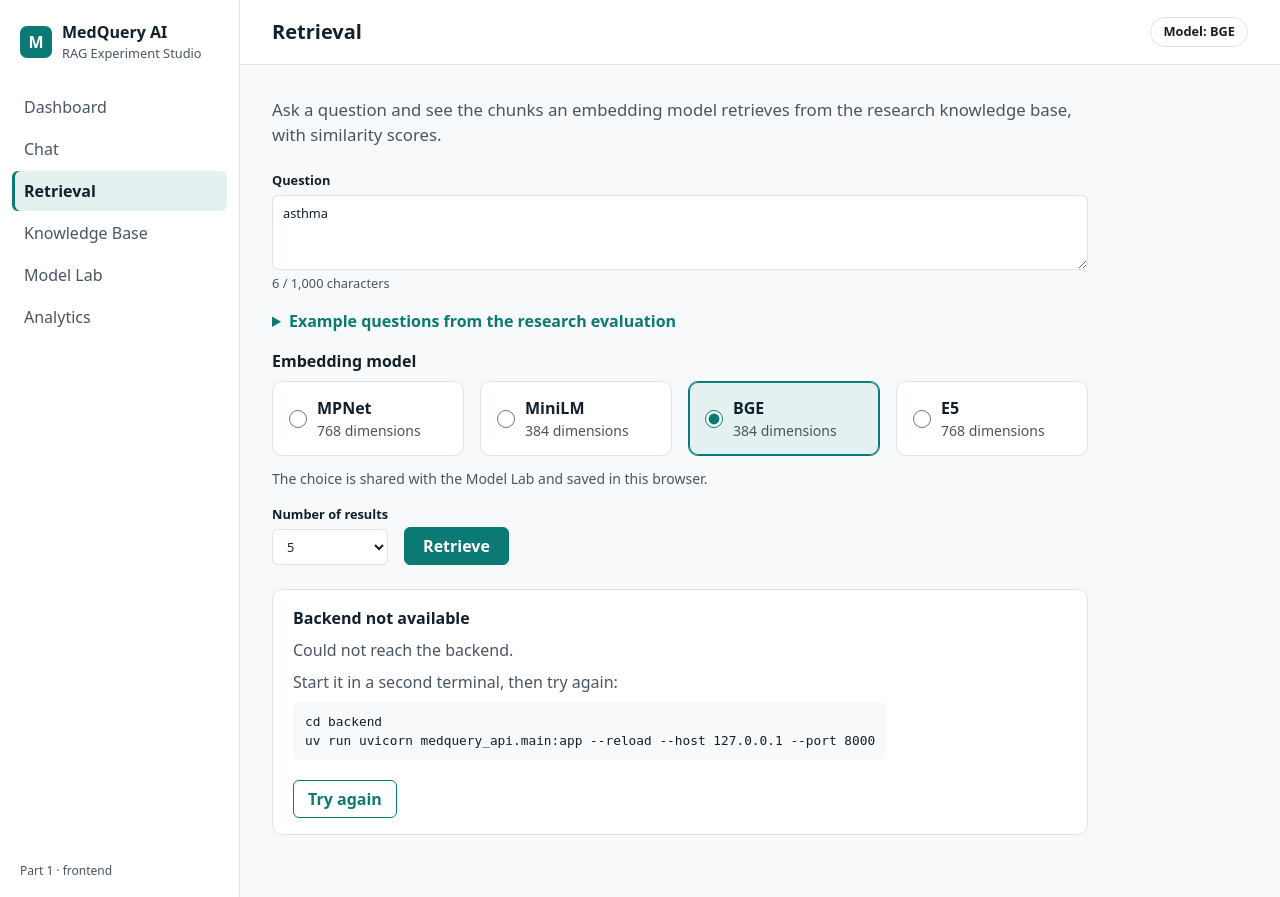
Test case: Retrieval errors › explains how to start the backend when it cannot be reached, and can try again
Expected: the message shows "Backend not available", [293,606,470,628]
Expected: the message shows "Could not reach the backend.", [293,638,513,660]
Click the button "Try again".
click(345, 799)  # box [293,780,397,818]
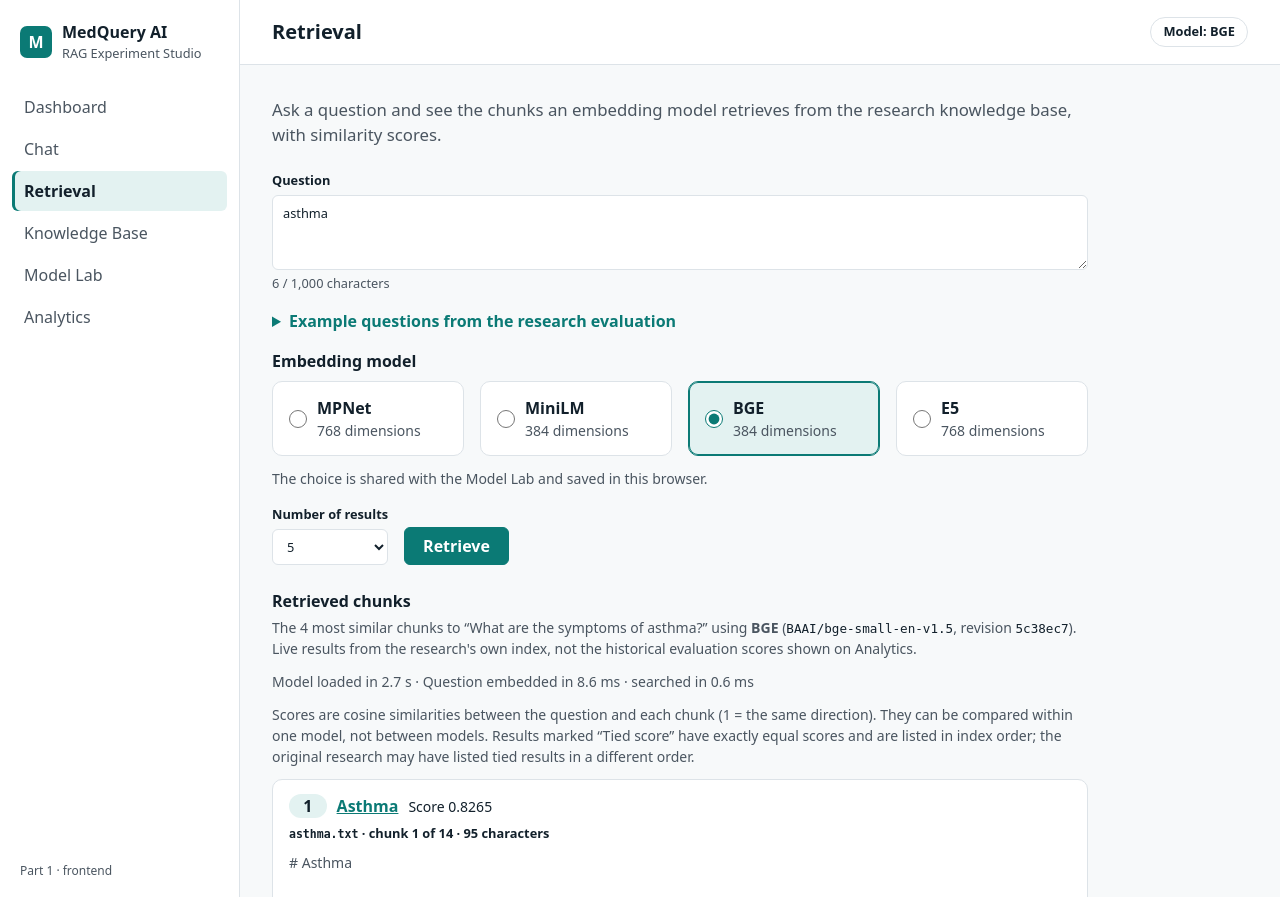
Now the heading "Retrieved chunks" is shown, box [272,590,411,612]
